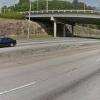Bridge: (13, 3, 95, 26)
